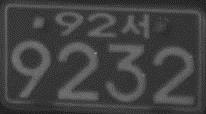2: (151, 44, 196, 105), (57, 40, 100, 102), (86, 11, 118, 38)
3: (106, 43, 147, 102)
9: (10, 39, 52, 98), (54, 11, 84, 36)
서: (121, 13, 151, 40)
